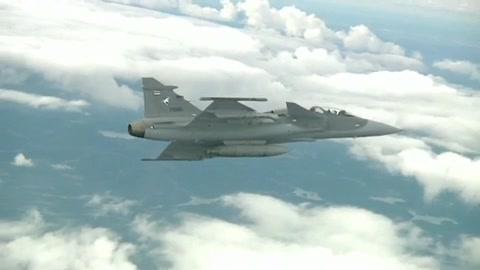aeroplane: (126, 78, 406, 164)
